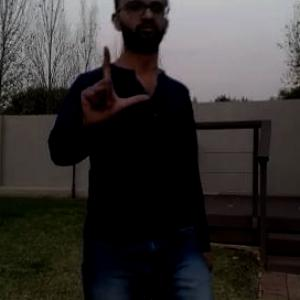land_hand: (78, 40, 154, 132)
